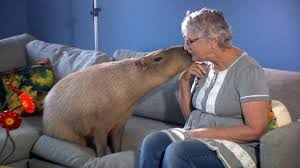capivara: (39, 45, 194, 158)
